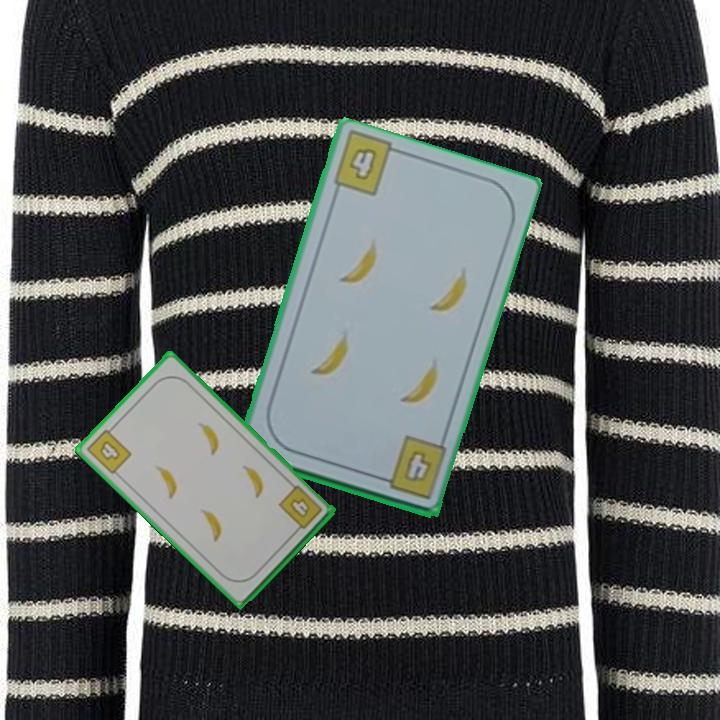4b: (373, 433, 450, 502), (83, 421, 134, 477), (275, 482, 325, 536), (345, 143, 380, 183)
